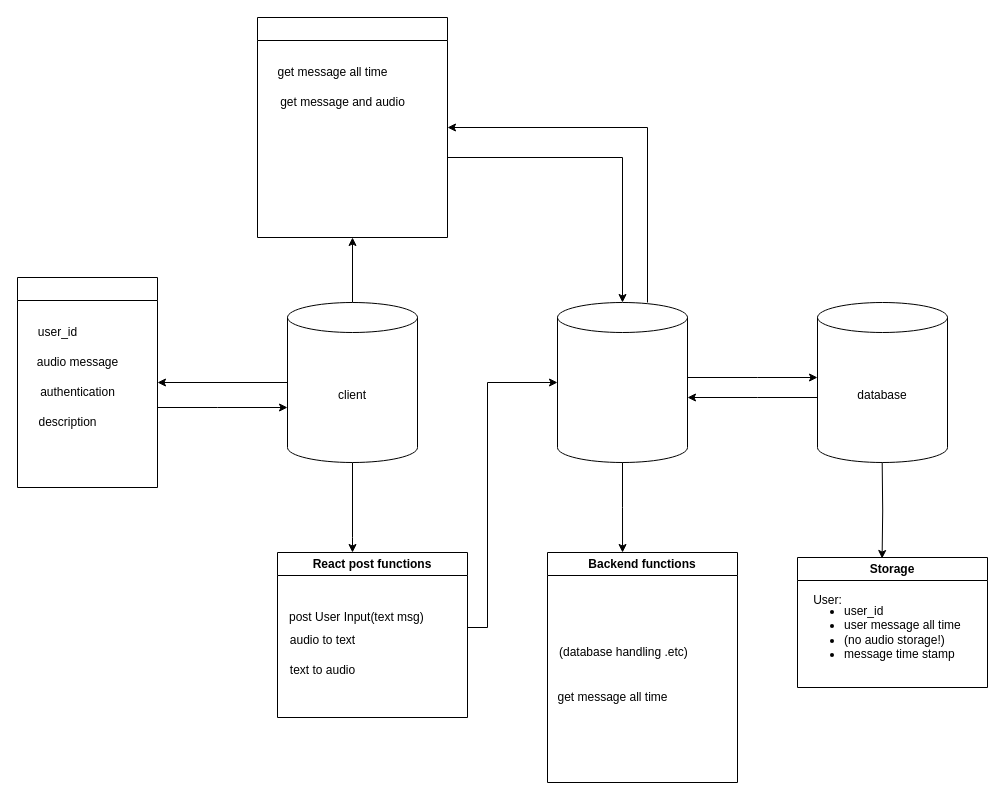
Image size: 1005x800. Some labels were removed from this diagram. Each missing label, with the box of its shape:
React get functions: (256, 16, 448, 238)
server: (556, 302, 688, 462)
User Input: (16, 276, 158, 488)
